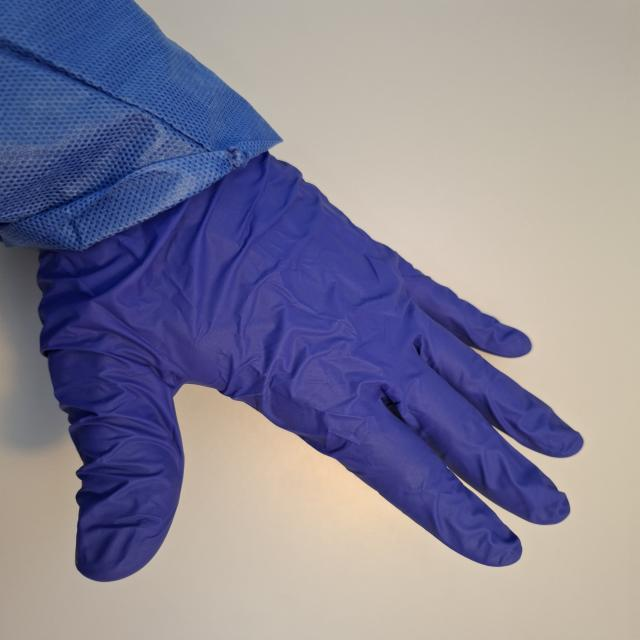glove_on: (24, 142, 586, 584)
